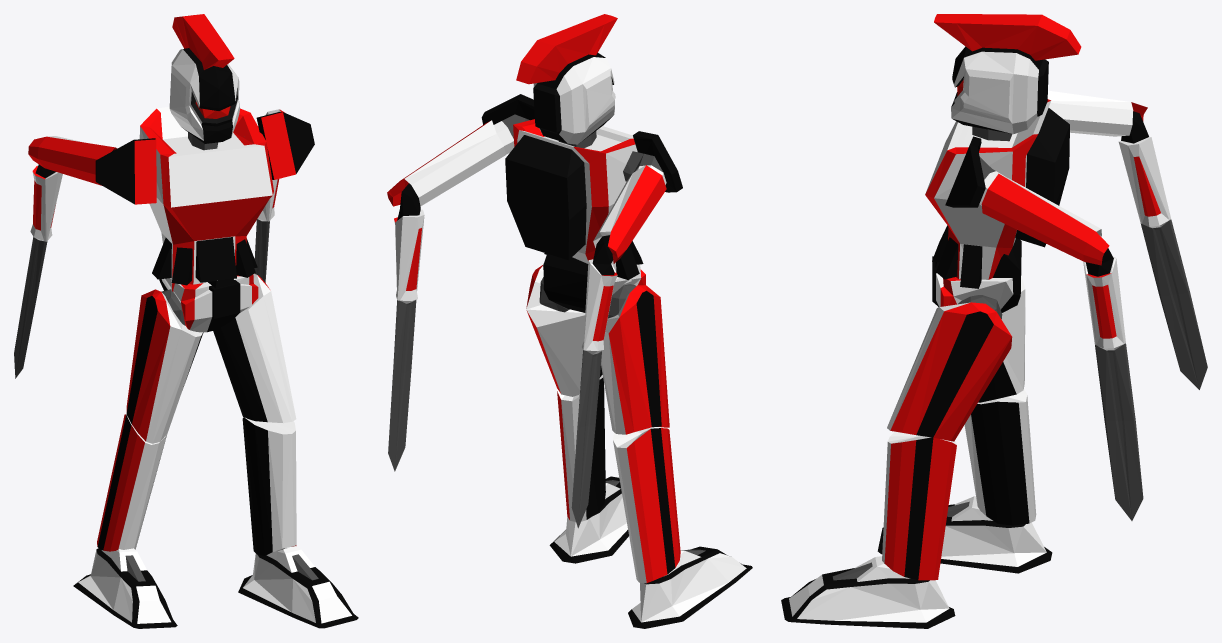
The model's file is robots_000001.obj.
The picture shows the model from 3 angles, left to right: view 1: azimuth 30°, elevation 25°; view 2: azimuth 150°, elevation 25°; view 3: azimuth 270°, elevation 25°; orthographic projection. The views are drawn at different scales.
Parts seen in each view (by area): view 1: Chest_plate_Cube.004, R_Thigh_Cube.005, Head_gladiator_Cube.024, R_Thigh.002_Cube.027, R_Shin.002_Cube.029, R_Forearm.001_Cube.028, R_Foot.002_Cube.035, R_Shin_Cube.007, R_Foot_Cube, Pelvis_Cube.006, R_Arm.002_Cube.032, R_Arm.003_Cube.034 (+1 smaller); view 2: Chest_plate_Cube.004, R_Forearm.002_Cube.033, Head_gladiator_Cube.024, R_Forearm.001_Cube.028, R_Thigh_Cube.005, R_Shin_Cube.007, R_Foot_Cube, R_Thigh.002_Cube.027, R_Foot.002_Cube.035, R_Shin.002_Cube.029, Pelvis_Cube.006, R_Arm.002_Cube.032 (+1 smaller); view 3: R_Forearm.002_Cube.033, Chest_plate_Cube.004, Head_gladiator_Cube.024, R_Forearm.001_Cube.028, R_Thigh.002_Cube.027, R_Shin.002_Cube.029, R_Foot.002_Cube.035, R_Shin_Cube.007, R_Foot_Cube, Pelvis_Cube.006, R_Thigh_Cube.005, R_Arm.003_Cube.034.
Part boxes in pixels (<box>): Chest_plate_Cube.004: <box>139,107,273,291</box>; R_Thigh_Cube.005: <box>126,289,203,443</box>; Head_gladiator_Cube.024: <box>169,14,240,143</box>; R_Thigh.002_Cube.027: <box>213,273,296,422</box>; R_Shin.002_Cube.029: <box>242,417,296,555</box>; R_Forearm.001_Cube.028: <box>14,136,117,378</box>; R_Foot.002_Cube.035: <box>238,546,358,628</box>; R_Shin_Cube.007: <box>97,414,166,551</box>; R_Foot_Cube: <box>73,548,177,628</box>; Pelvis_Cube.006: <box>159,274,258,332</box>; R_Arm.002_Cube.032: <box>95,138,156,204</box>; R_Arm.003_Cube.034: <box>244,112,314,179</box>; Chest_plate_Cube.004: <box>505,119,643,283</box>; R_Forearm.002_Cube.033: <box>387,120,505,471</box>; Head_gladiator_Cube.024: <box>516,14,617,144</box>; R_Forearm.001_Cube.028: <box>571,165,666,528</box>; R_Thigh_Cube.005: <box>601,285,669,434</box>; R_Shin_Cube.007: <box>613,428,680,583</box>; R_Foot_Cube: <box>628,546,752,628</box>; R_Thigh.002_Cube.027: <box>526,265,602,396</box>; R_Foot.002_Cube.035: <box>549,476,628,563</box>; R_Shin.002_Cube.029: <box>557,375,605,521</box>; Pelvis_Cube.006: <box>543,253,645,312</box>; R_Arm.002_Cube.032: <box>623,131,682,192</box>; R_Forearm.002_Cube.033: <box>981,173,1143,520</box>; Chest_plate_Cube.004: <box>925,99,1069,288</box>; Head_gladiator_Cube.024: <box>934,14,1081,134</box>; R_Forearm.001_Cube.028: <box>1047,90,1207,389</box>; R_Thigh.002_Cube.027: <box>887,302,1012,441</box>; R_Shin.002_Cube.029: <box>882,431,956,580</box>; R_Foot.002_Cube.035: <box>781,556,955,628</box>; R_Shin_Cube.007: <box>964,389,1036,525</box>; R_Foot_Cube: <box>877,496,1052,573</box>; Pelvis_Cube.006: <box>932,238,1021,312</box>; R_Thigh_Cube.005: <box>978,275,1025,402</box>; R_Arm.003_Cube.034: <box>945,136,1003,207</box>.
Size of the model in its own units: 1.58 by 3.19 by 2.09.
